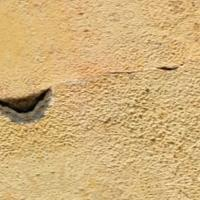crack: (0, 58, 199, 132)
